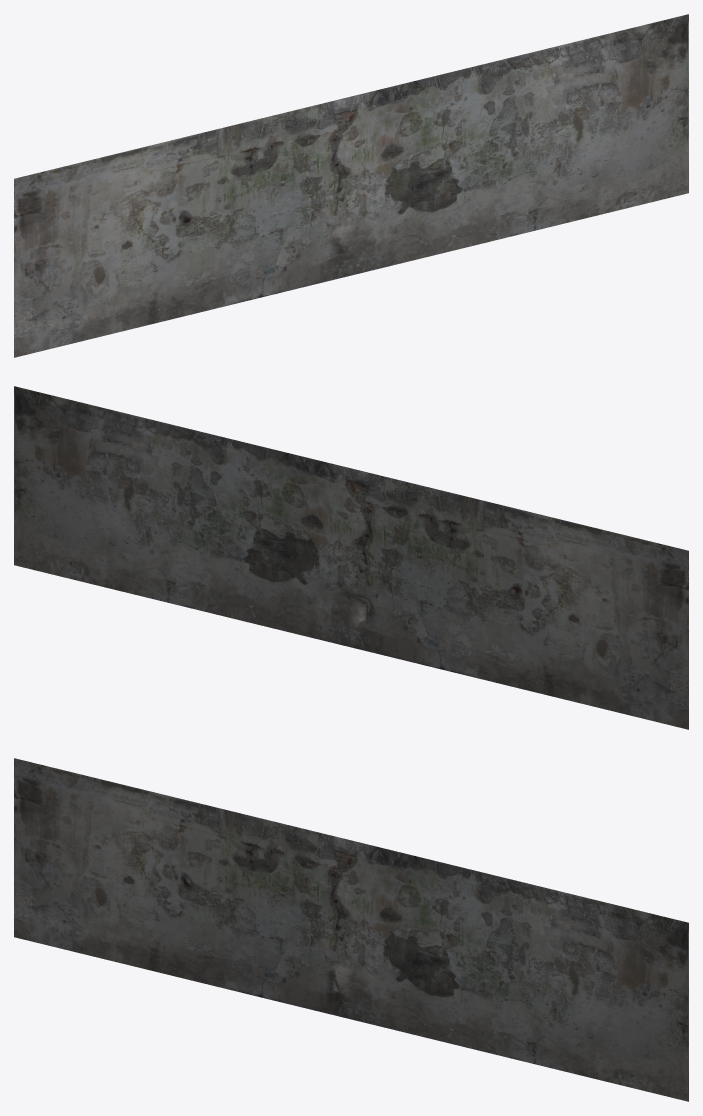
The model's file is SM_CryptWall_04_01.fbx.
3 renders of one model, top to bottom at view 1: azimuth 30°, elevation 25°; view 2: azimuth 150°, elevation 25°; view 3: azimuth 330°, elevation 25°, orthographic.
Parts seen in each view (by area): view 1: sm_CryptWall_04_01_LOD0; view 2: sm_CryptWall_04_01_LOD0; view 3: sm_CryptWall_04_01_LOD0.
Part boxes in pixels (x1,y1,x2,y2): sm_CryptWall_04_01_LOD0: (14,14,688,357); sm_CryptWall_04_01_LOD0: (14,386,688,729); sm_CryptWall_04_01_LOD0: (14,758,688,1101).
Size of the model in its own units: 7.96 by 710 by 180.
